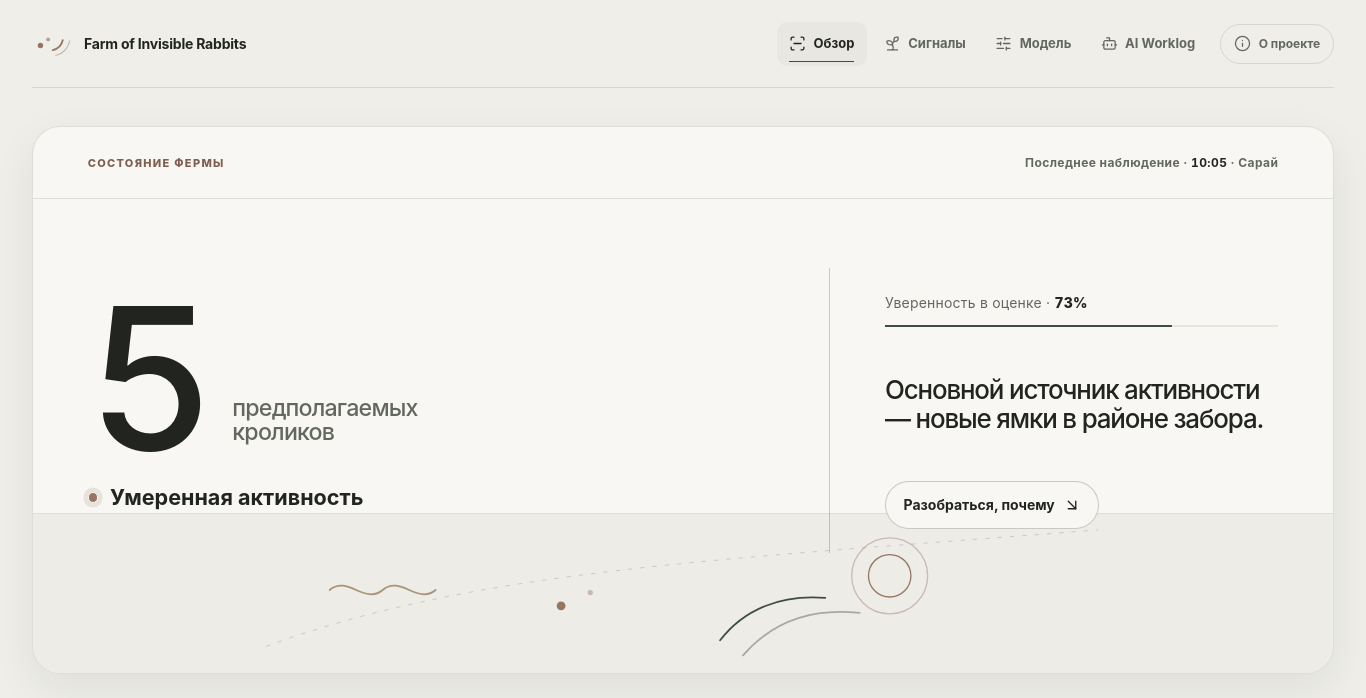
App › переключает разделы через hash-навигацию
Click the link "Сигналы": [925, 44] box [871, 22, 979, 66]
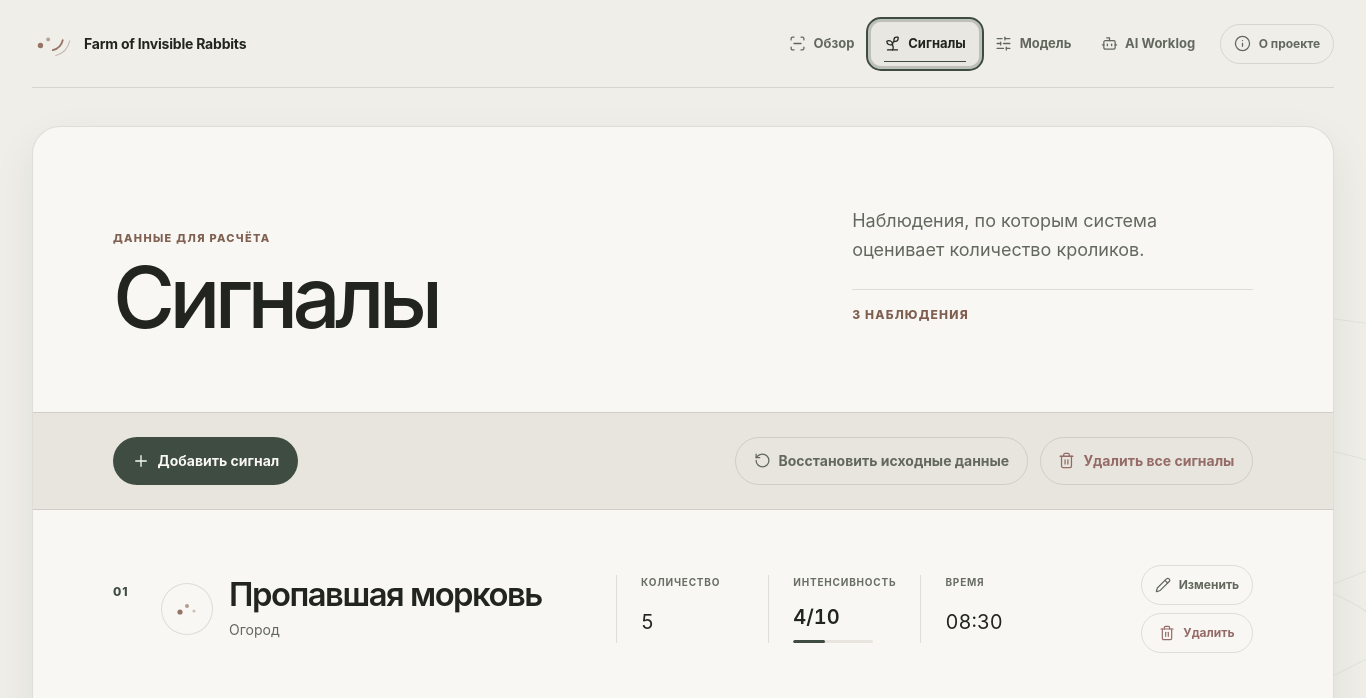
expect the heading "Сигналы" is shown: met, box [113, 246, 438, 348]
Click the link "Модель": [1033, 44] box [983, 22, 1084, 66]
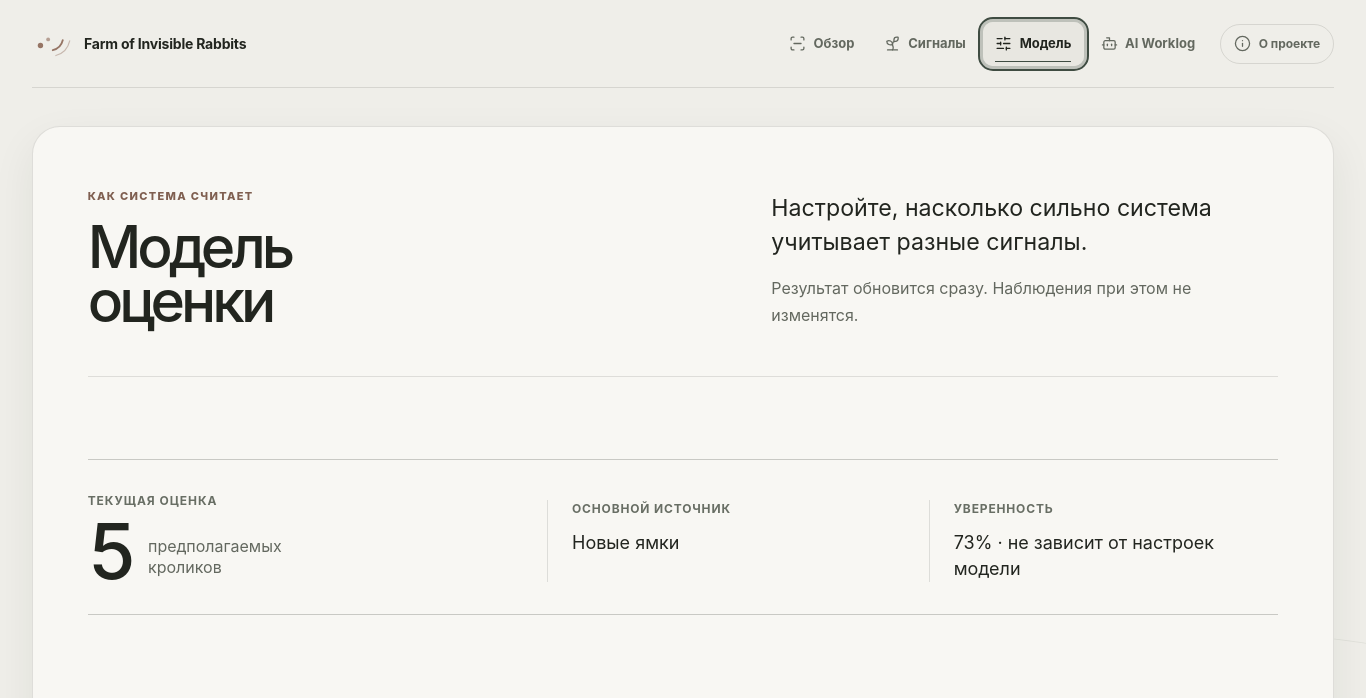
expect the heading "Модель оценки" is shown: met, box [88, 211, 291, 336]
Click the link "AI Worklog": [1148, 44] box [1088, 22, 1208, 66]
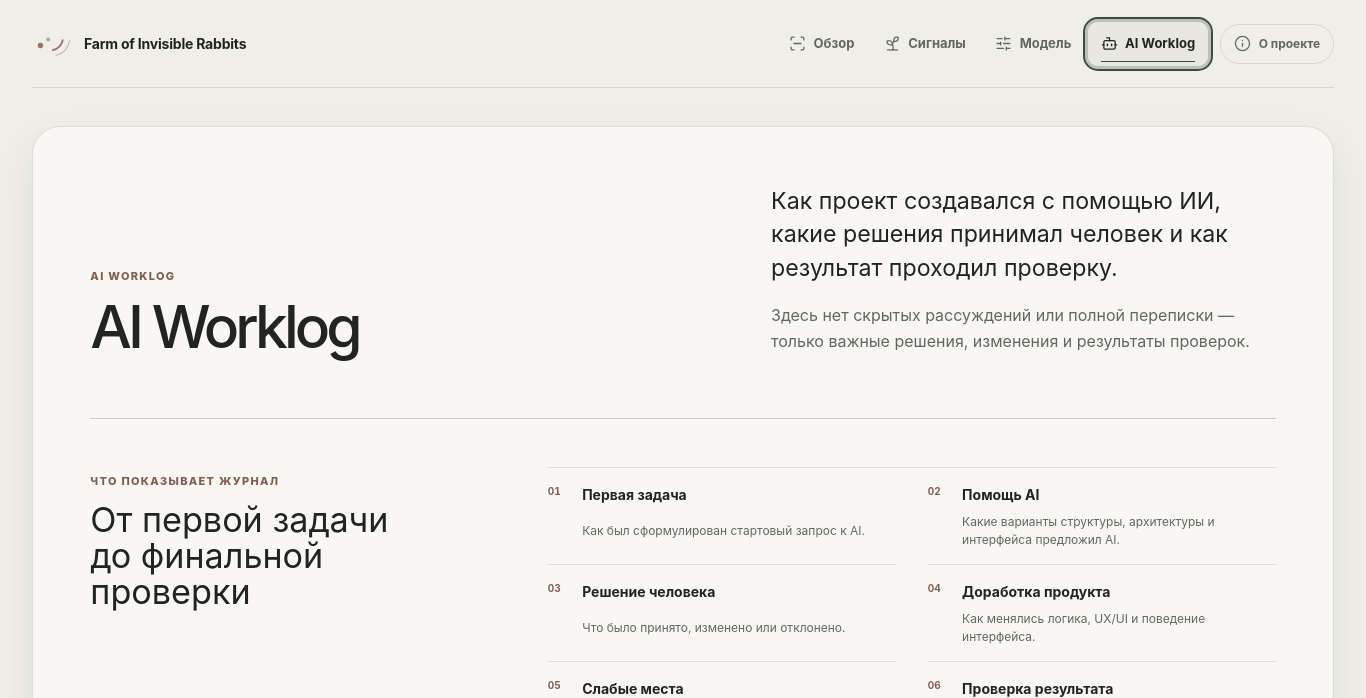
expect the heading "AI Worklog" is shown: met, box [90, 291, 359, 362]
